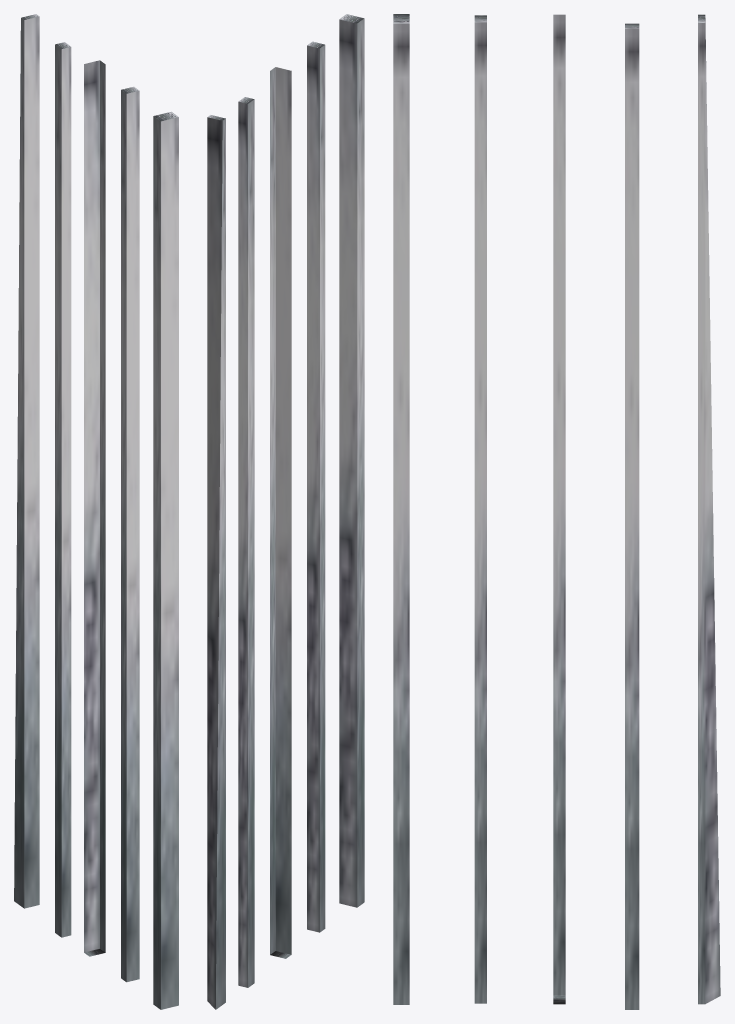
Rendered from bankbars.glb.
The picture shows the model from 3 angles, left to right: view 1: azimuth 30°, elevation 25°; view 2: azimuth 150°, elevation 25°; view 3: azimuth 270°, elevation 25°; orthographic projection. The views are drawn at different scales.
Visible parts, largest first — view 1: Cube; view 2: Cube; view 3: Cube.
Boxes of the visible parts, x1=… form: Cube: x1=14, y1=14, x2=178, y2=1009; Cube: x1=207, y1=14, x2=364, y2=1009; Cube: x1=393, y1=14, x2=720, y2=1009.
Size of the model in its own units: 0.0179 by 0.846 by 0.254.
Materials: 1 (1 with a texture image).
